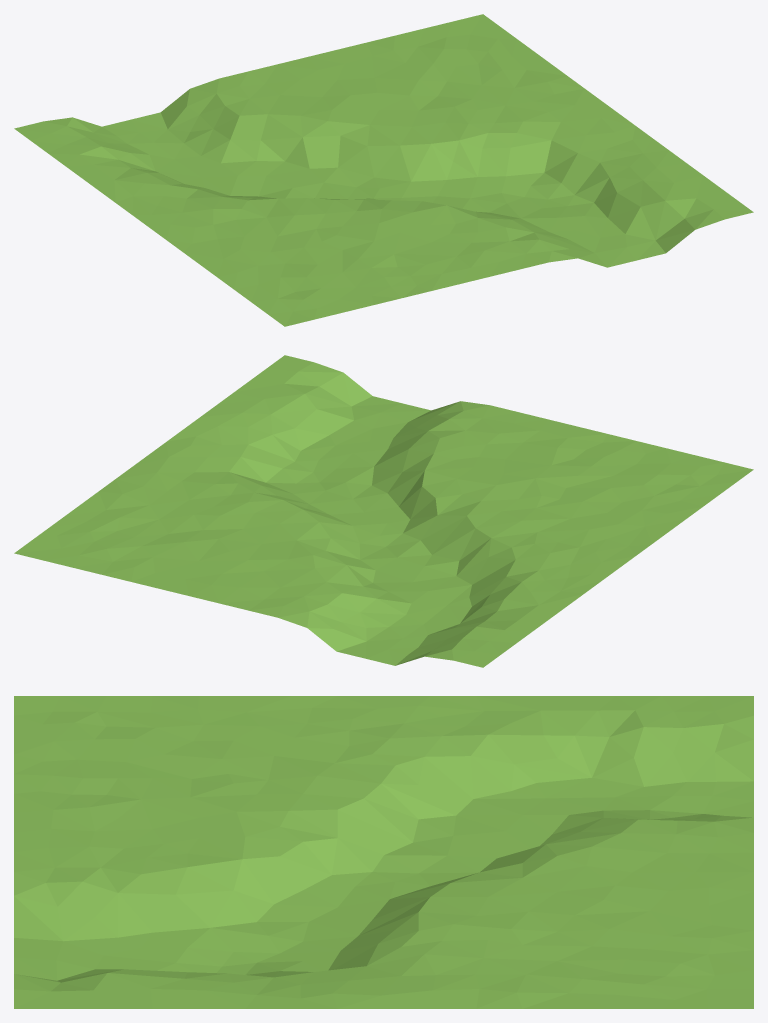
Rendered from MT_River_M_c_01_R_LOD.fbx.
The picture shows the model from 3 angles, top to bottom: view 1: azimuth 30°, elevation 25°; view 2: azimuth 150°, elevation 25°; view 3: azimuth 270°, elevation 25°; orthographic projection. The views are drawn at different scales.
Parts seen in each view (by area): view 1: MT_River_M_c_01_R_LOD0; view 2: MT_River_M_c_01_R_LOD0; view 3: MT_River_M_c_01_R_LOD0.
Part boxes in pixels (x1=…): MT_River_M_c_01_R_LOD0: x1=14, y1=14, x2=753, y2=326; MT_River_M_c_01_R_LOD0: x1=14, y1=355, x2=753, y2=667; MT_River_M_c_01_R_LOD0: x1=14, y1=696, x2=753, y2=1008.
Size of what is drawn, in the model's own units: 50 by 2.54 by 50.
